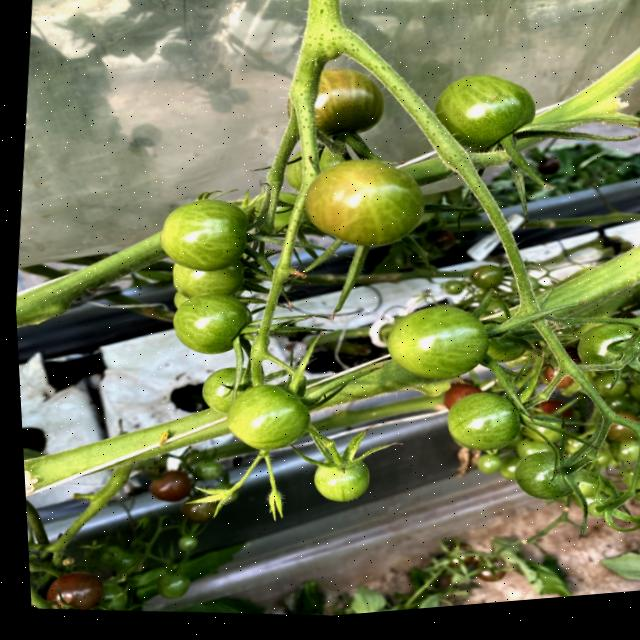ripe0: (299, 157, 427, 248), (386, 303, 490, 382), (160, 198, 251, 272), (223, 383, 314, 451), (314, 452, 371, 504)
